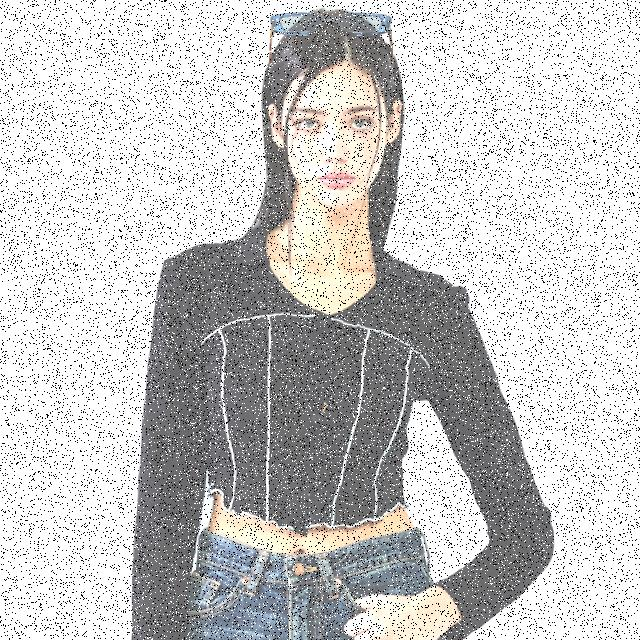Blouse_deep: (132, 227, 554, 640)
